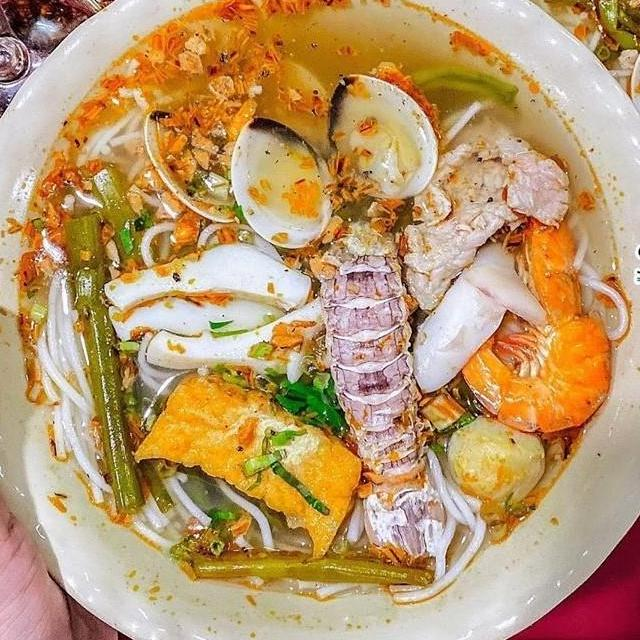bun: (65, 54, 238, 270), (330, 436, 493, 612), (22, 254, 123, 527), (123, 461, 281, 566)
bun hai san: (0, 0, 640, 640)
dau hu: (124, 365, 368, 571)
muc: (91, 238, 318, 322), (142, 292, 340, 386), (98, 284, 295, 346)
thit heo: (392, 107, 575, 316)
tom: (443, 211, 619, 446)
tom tit: (304, 213, 461, 569)
